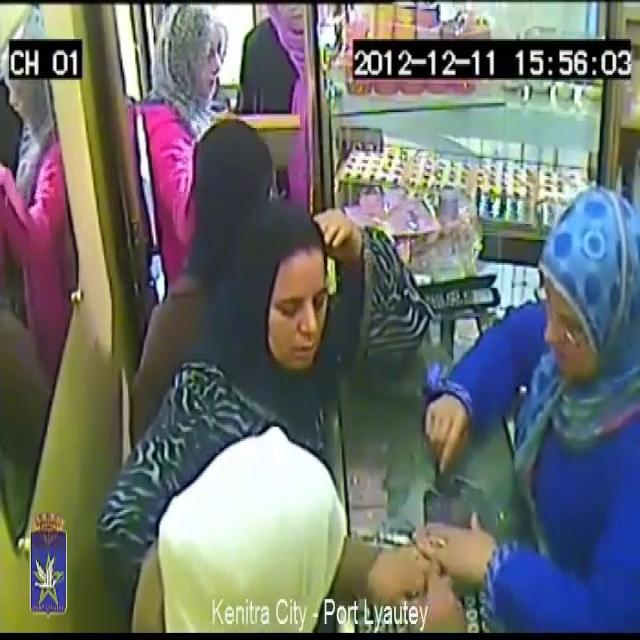Product: (245, 88, 314, 172), (404, 512, 428, 556)
normal: (464, 151, 640, 640), (248, 218, 372, 424), (184, 87, 279, 278)
shoplifting: (116, 410, 445, 640), (138, 0, 300, 266)
